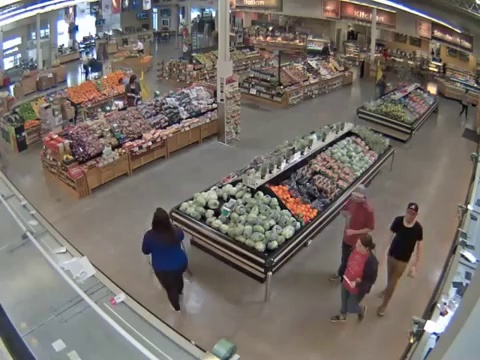face: (406, 209, 418, 224), (355, 241, 368, 254)
